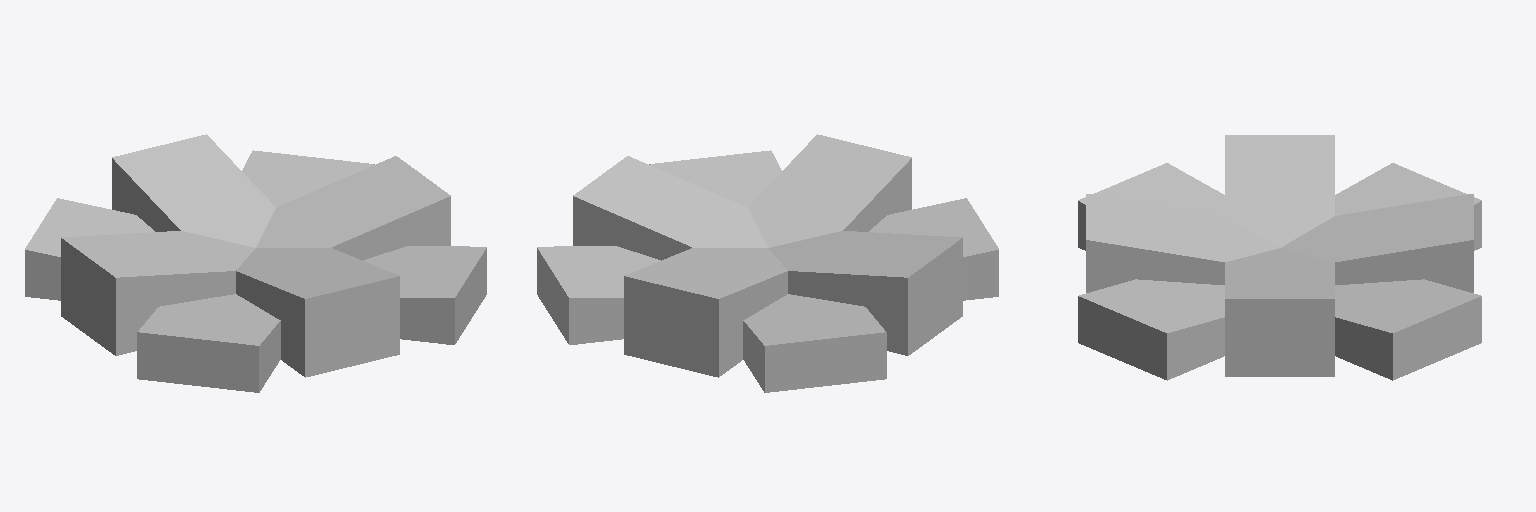
Rendered from firewood.obj.
3 views of the same model, side by side, from view 1: azimuth 30°, elevation 25°; view 2: azimuth 150°, elevation 25°; view 3: azimuth 270°, elevation 25° (orthographic).
Visible parts, largest first — view 1: Mesh1_Campfire_Model; view 2: Mesh1_Campfire_Model; view 3: Mesh1_Campfire_Model.
Part boxes in pixels (bbox=[...]): Mesh1_Campfire_Model: bbox=[25, 134, 486, 392]; Mesh1_Campfire_Model: bbox=[537, 134, 998, 392]; Mesh1_Campfire_Model: bbox=[1078, 135, 1481, 380].
Size of the model in its own units: 0.6993 by 0.15 by 0.6993.